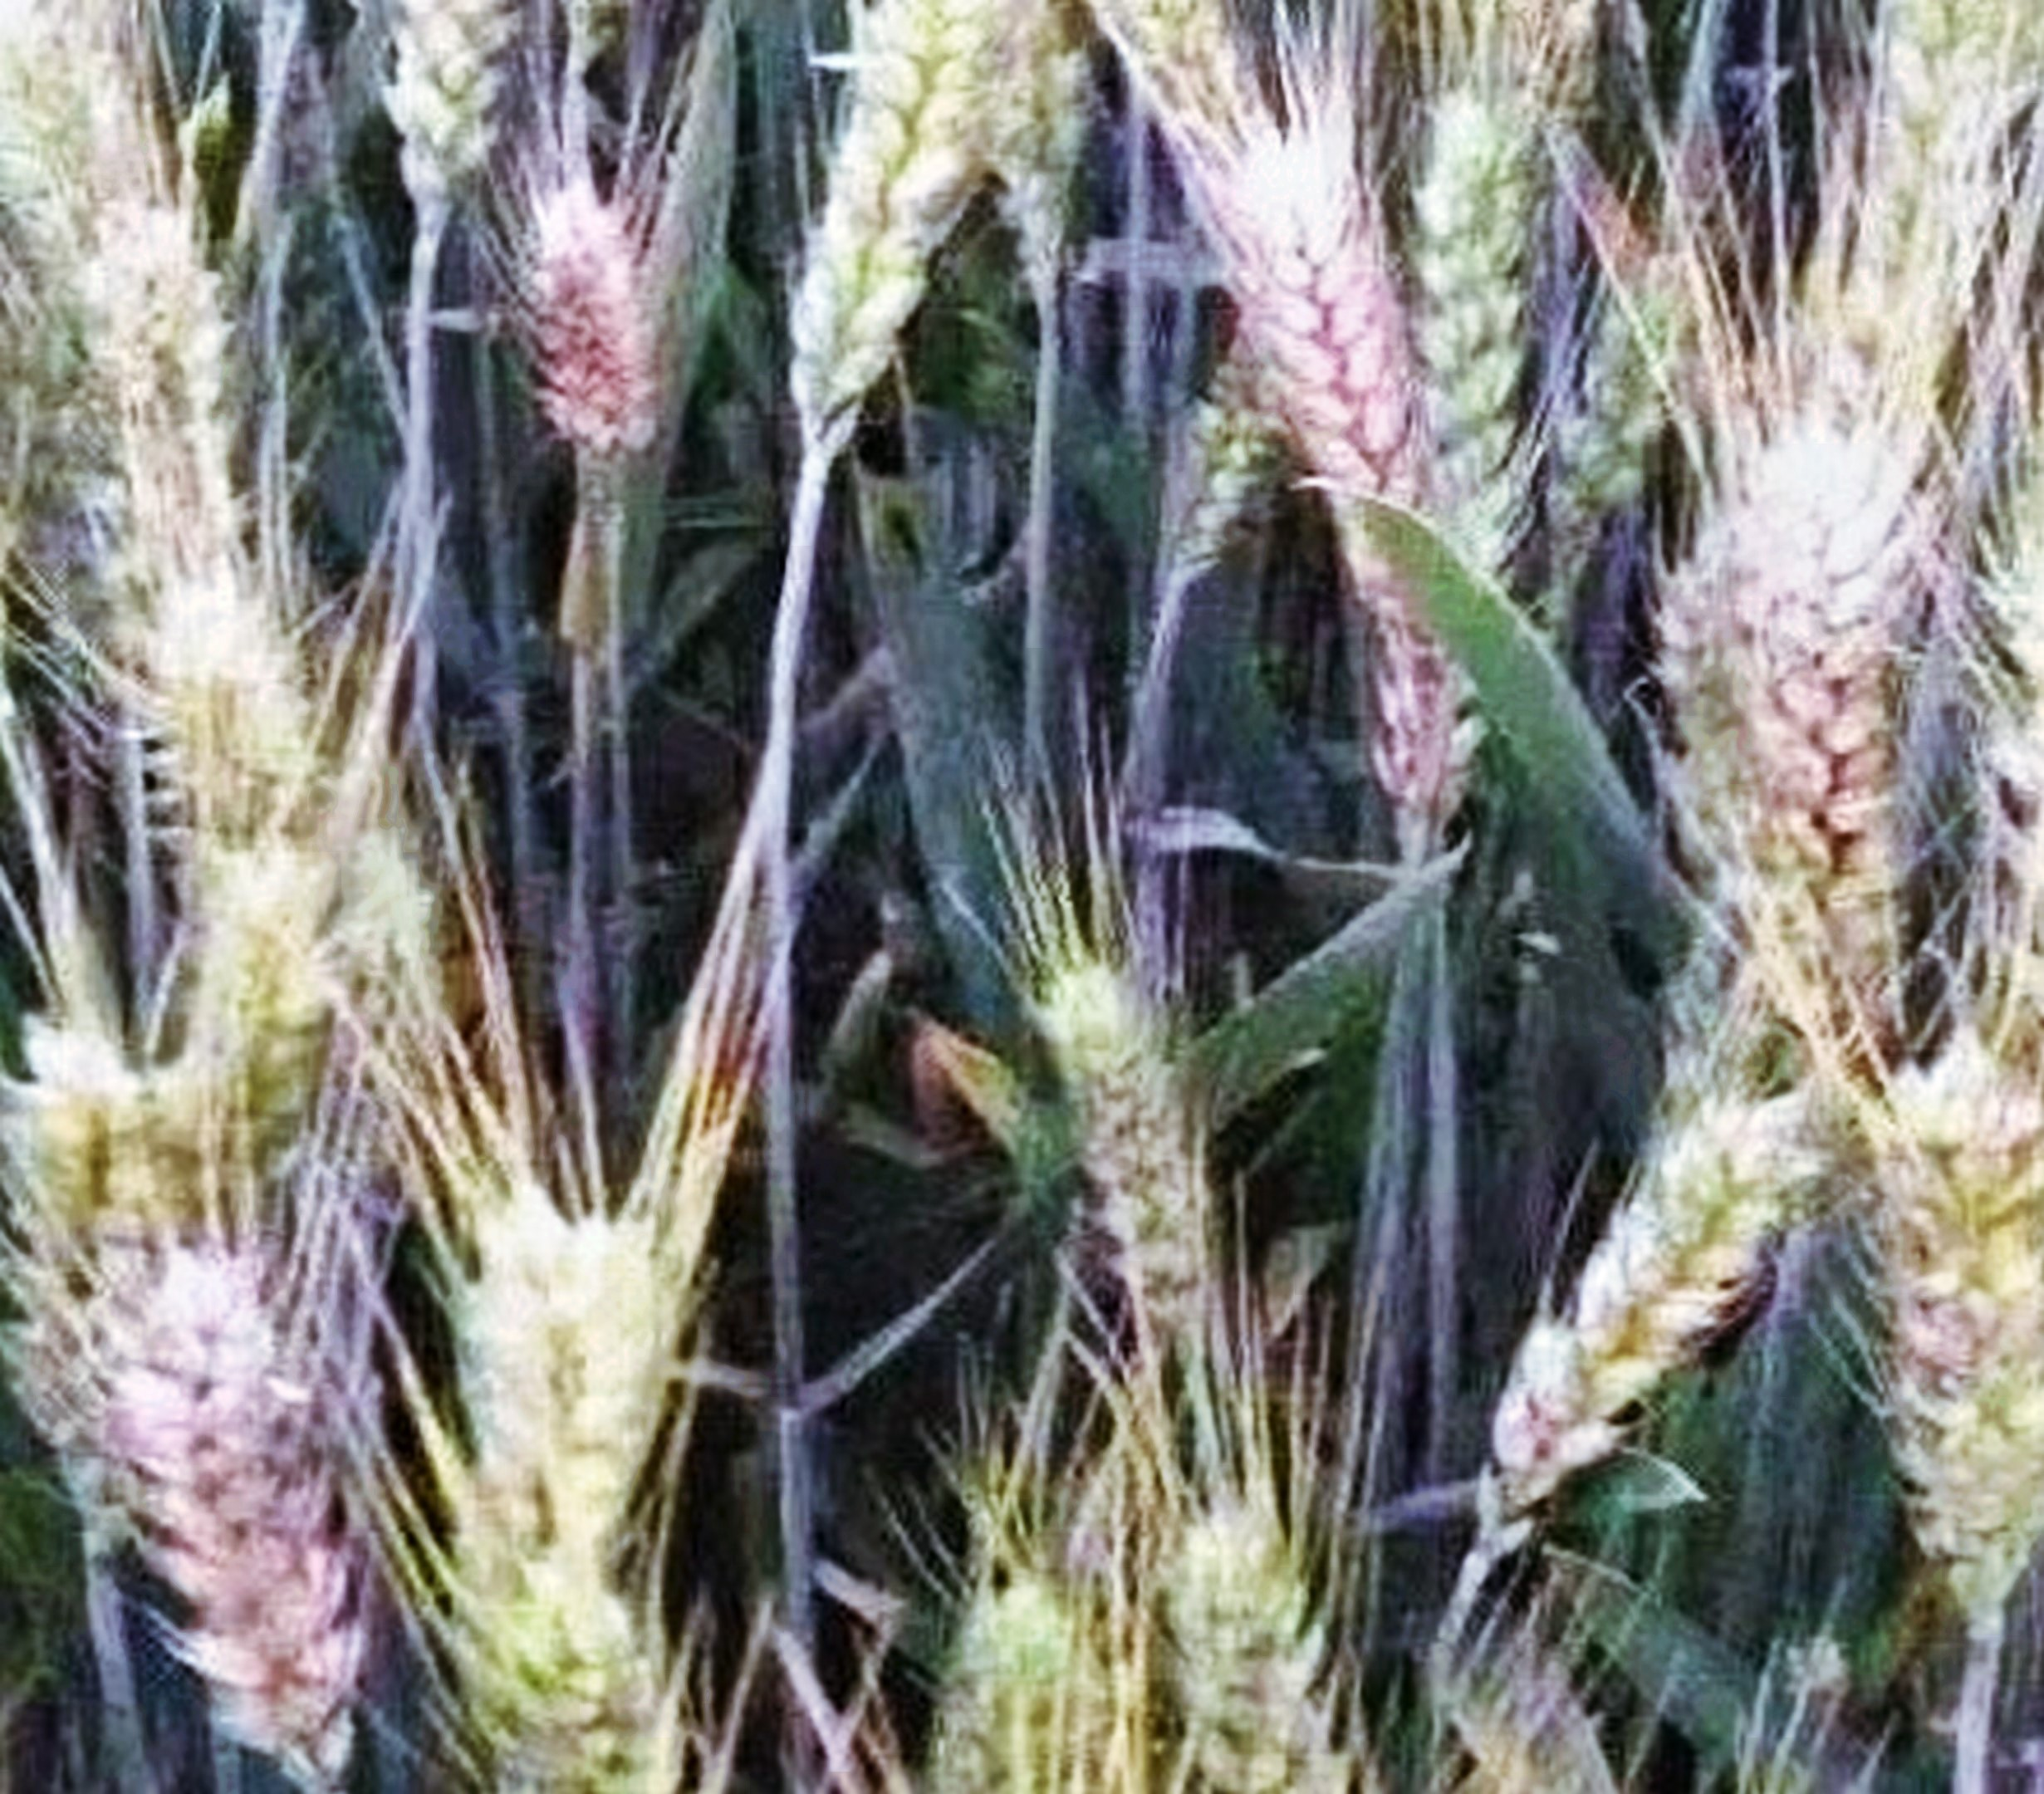Wheat scab: (1159, 134, 1462, 591)
